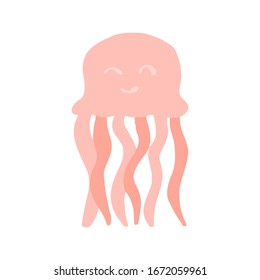animal: (70, 37, 202, 223)
